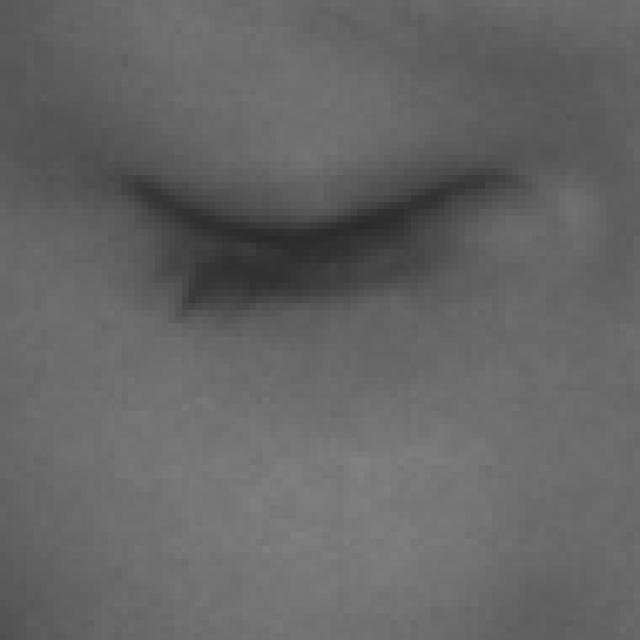Eyeclosed: (126, 68, 510, 428)
